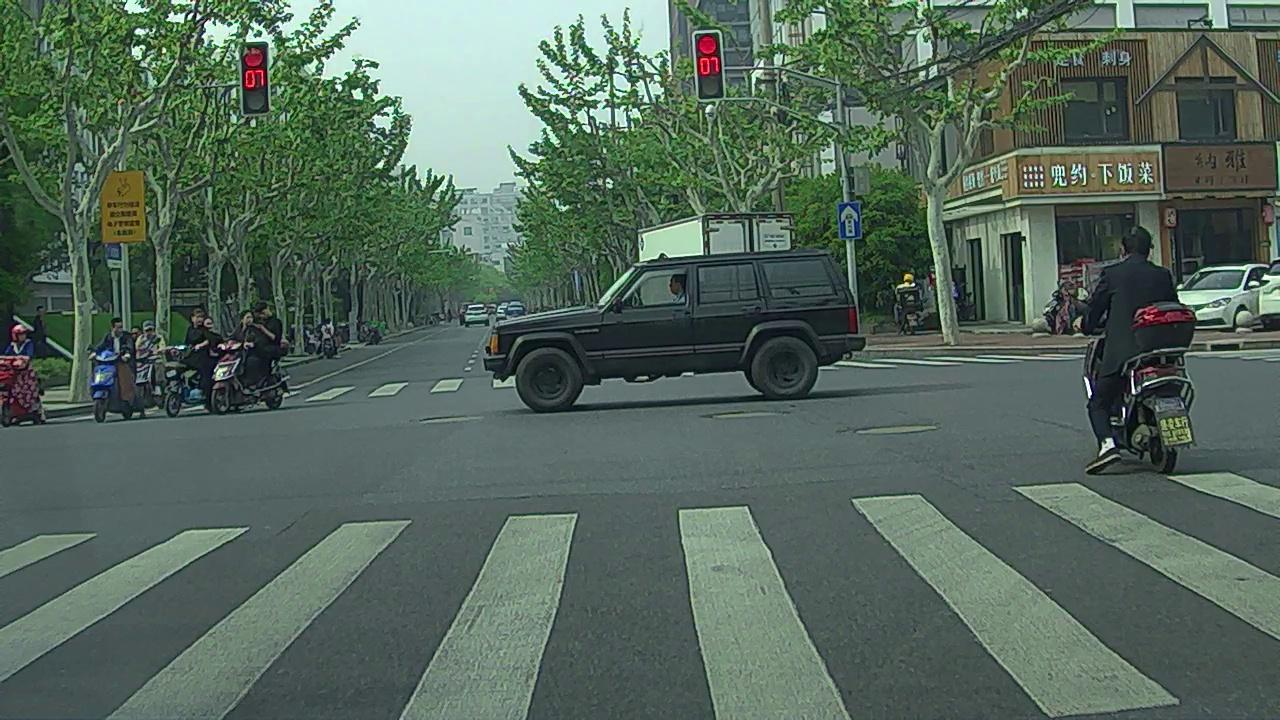traffic_light: (242, 44, 270, 115), (696, 33, 725, 98)
